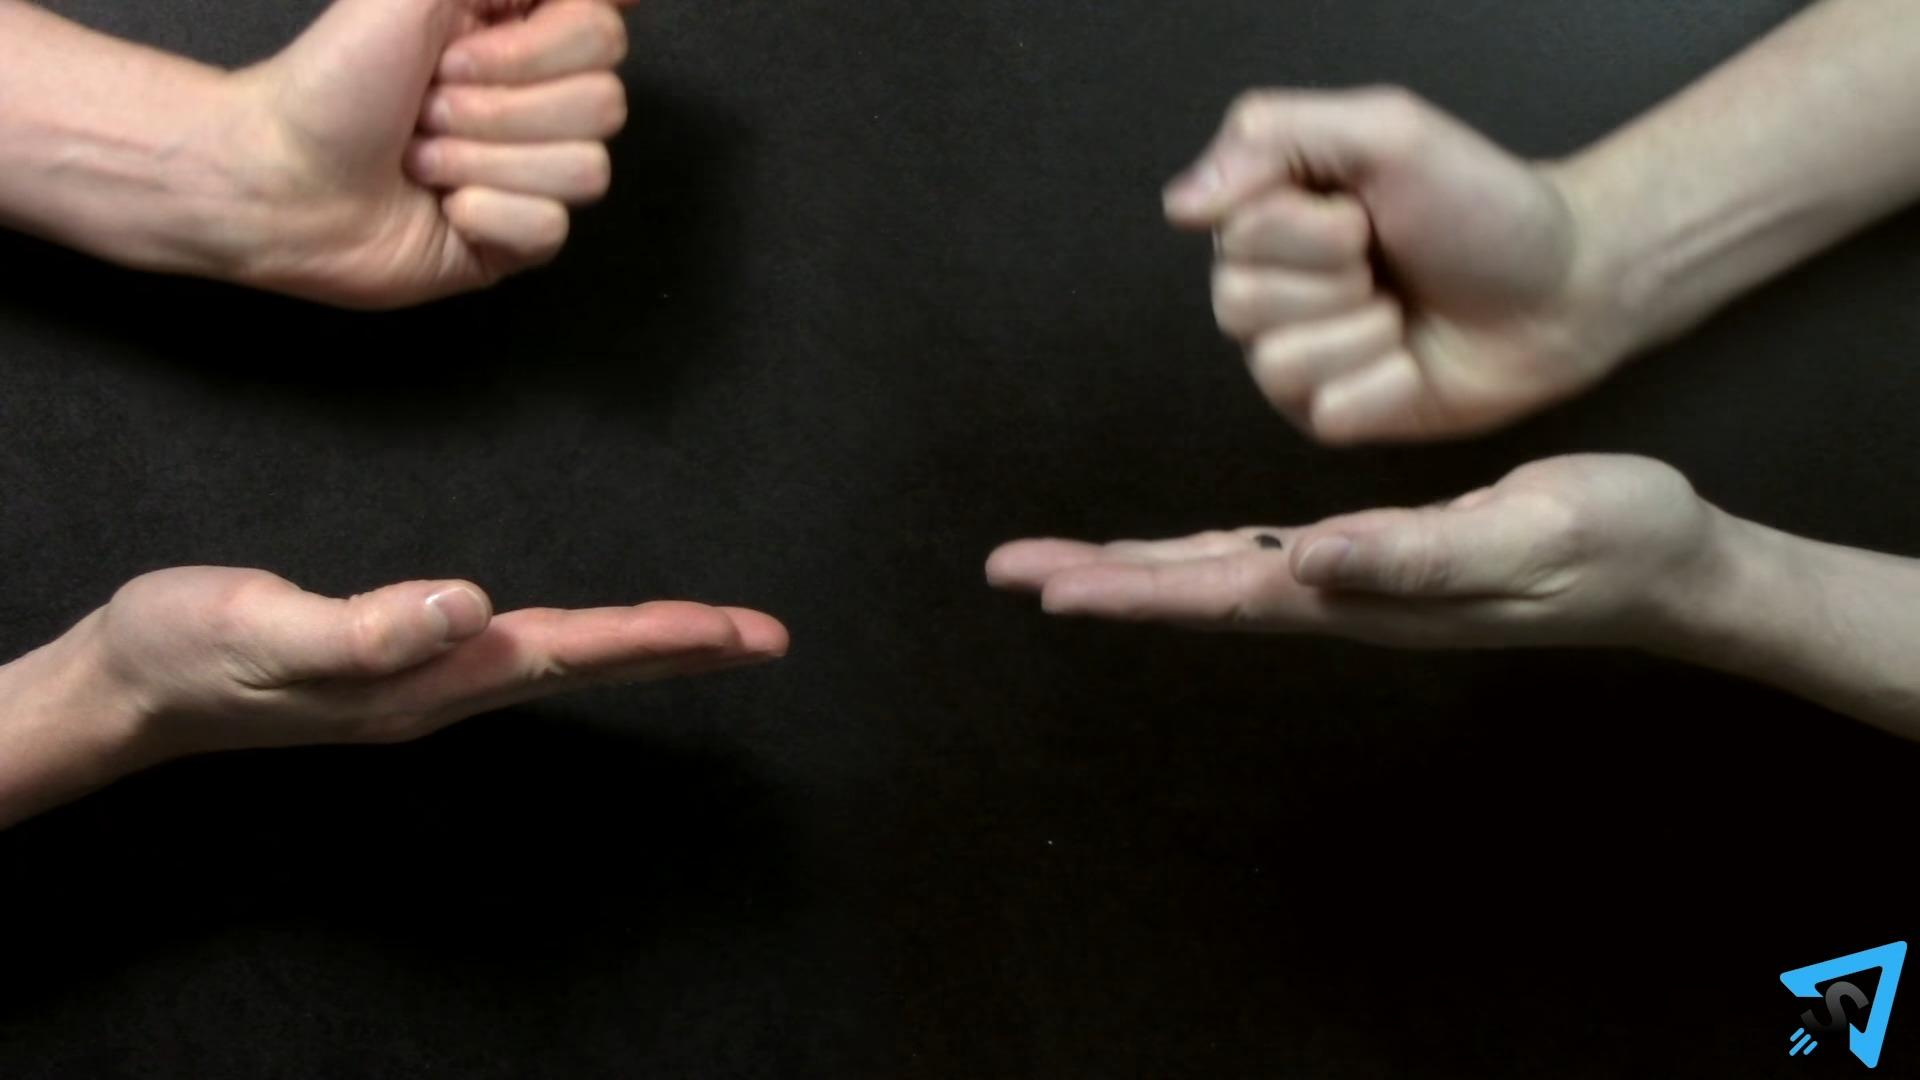Rock: (1160, 70, 1602, 439), (210, 0, 640, 299)
